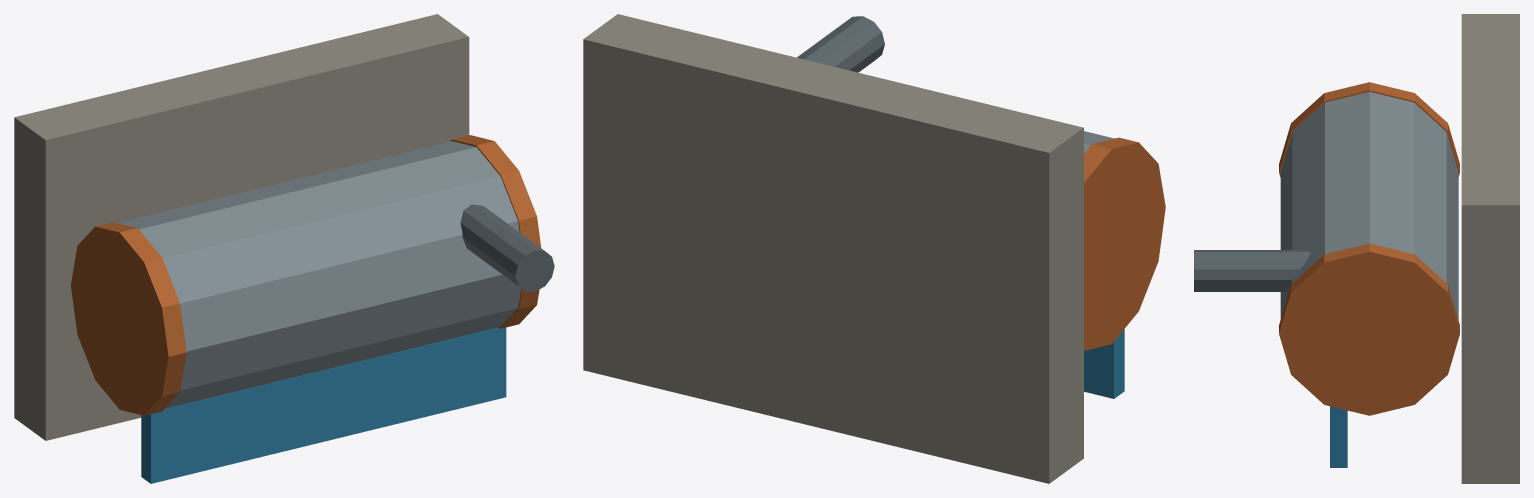
File: solar-boiler.obj
3 renders of one model, left to right at view 1: azimuth 30°, elevation 25°; view 2: azimuth 150°, elevation 25°; view 3: azimuth 270°, elevation 25°, orthographic. The views are drawn at different scales.
Visible parts, largest first — view 1: solar-boiler_boiler_foundation, solar-boiler_boiler_cylinder, solar-boiler_solar_thermal_collector, solar-boiler_end_cap_left, solar-boiler_steam_vent, solar-boiler_end_cap_right; view 2: solar-boiler_boiler_foundation, solar-boiler_end_cap_left, solar-boiler_steam_vent, solar-boiler_solar_thermal_collector; view 3: solar-boiler_boiler_foundation, solar-boiler_boiler_cylinder, solar-boiler_end_cap_right, solar-boiler_steam_vent, solar-boiler_end_cap_left, solar-boiler_solar_thermal_collector.
Part boxes in pixels (box(x1,y1,x2,y2)): solar-boiler_boiler_foundation: box(14, 14, 469, 440); solar-boiler_boiler_cylinder: box(118, 141, 521, 408); solar-boiler_solar_thermal_collector: box(141, 327, 506, 483); solar-boiler_end_cap_left: box(71, 222, 186, 415); solar-boiler_steam_vent: box(460, 204, 554, 291); solar-boiler_end_cap_right: box(450, 135, 541, 328); solar-boiler_boiler_foundation: box(583, 14, 1083, 483); solar-boiler_end_cap_left: box(1084, 137, 1165, 350); solar-boiler_steam_vent: box(797, 16, 884, 72); solar-boiler_solar_thermal_collector: box(1084, 329, 1124, 398); solar-boiler_boiler_foundation: box(1461, 14, 1519, 483); solar-boiler_boiler_cylinder: box(1280, 92, 1458, 319); solar-boiler_end_cap_right: box(1279, 243, 1459, 415); solar-boiler_steam_vent: box(1194, 250, 1310, 291); solar-boiler_end_cap_left: box(1279, 82, 1459, 177); solar-boiler_solar_thermal_collector: box(1330, 406, 1347, 467).
Size of the model in its own units: 2.8 by 1.9 by 2.02.
